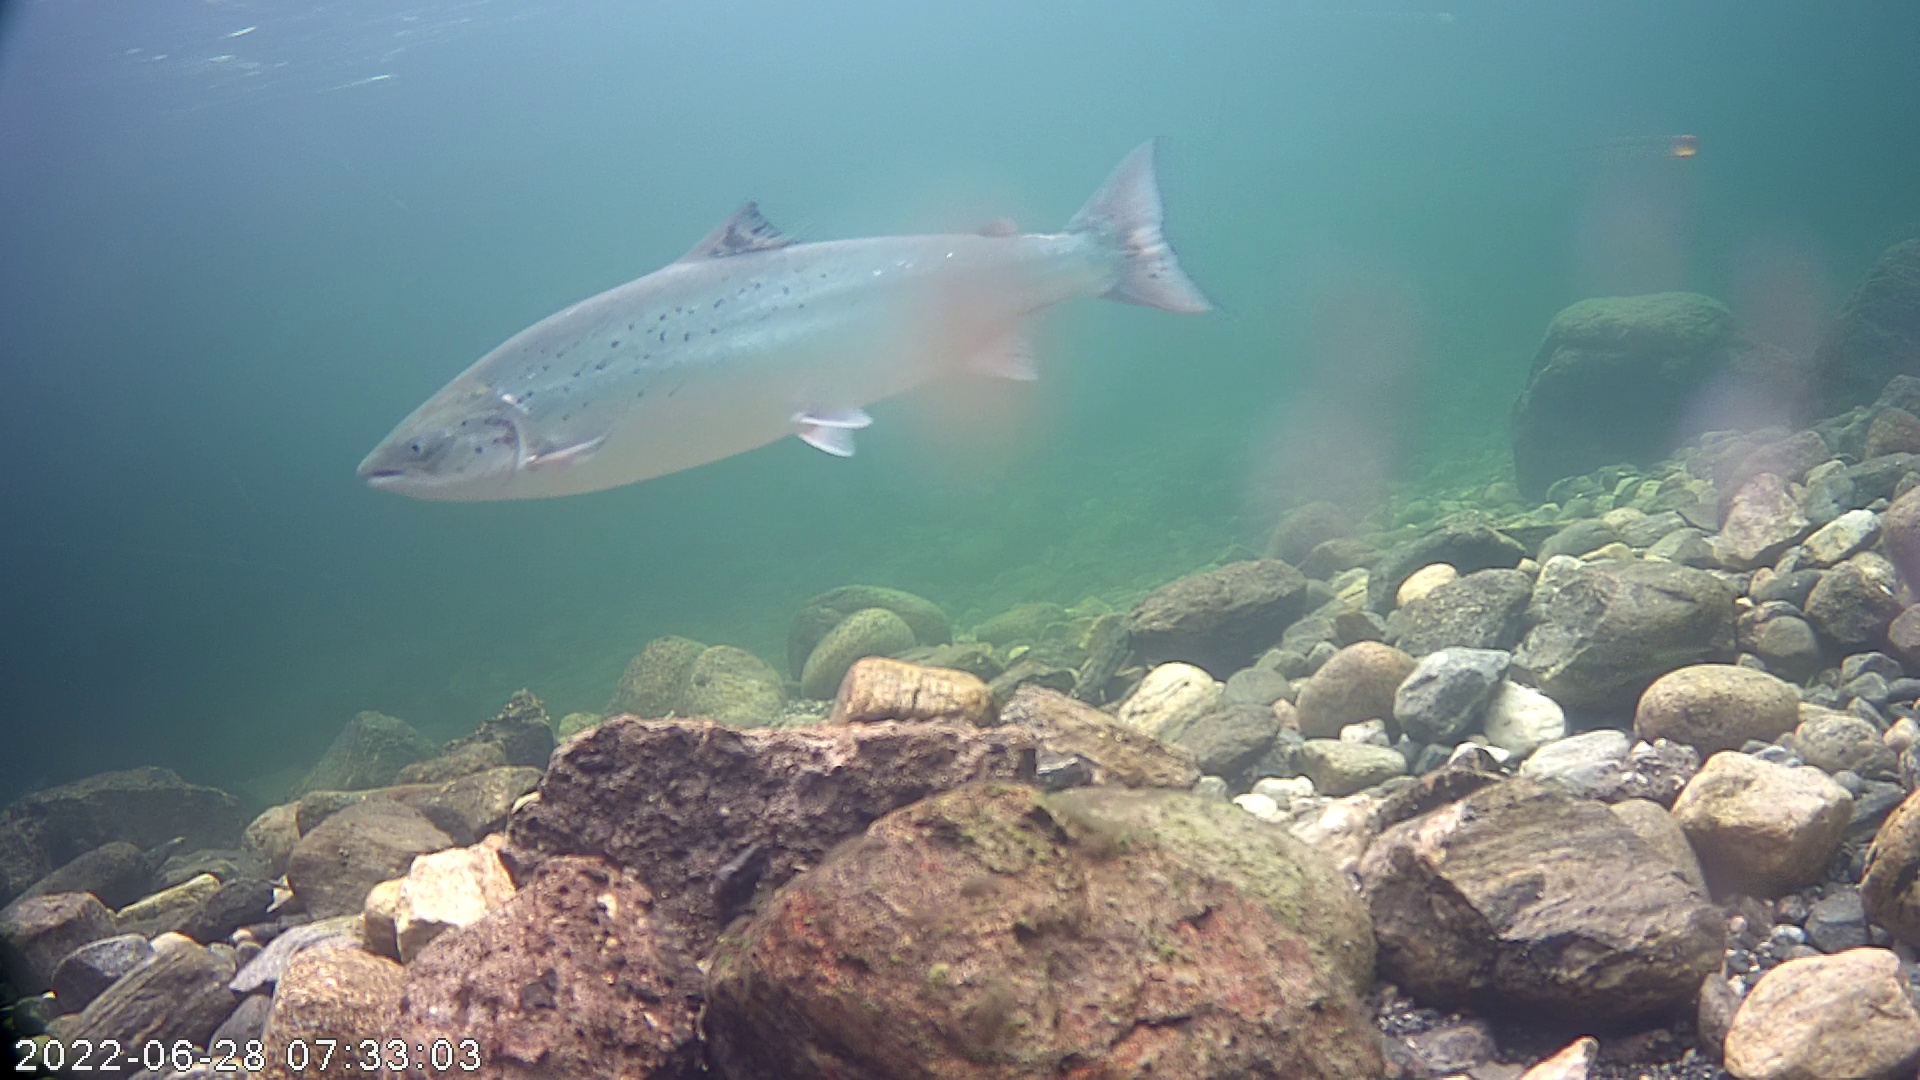salmon: (348, 109, 1232, 537)
